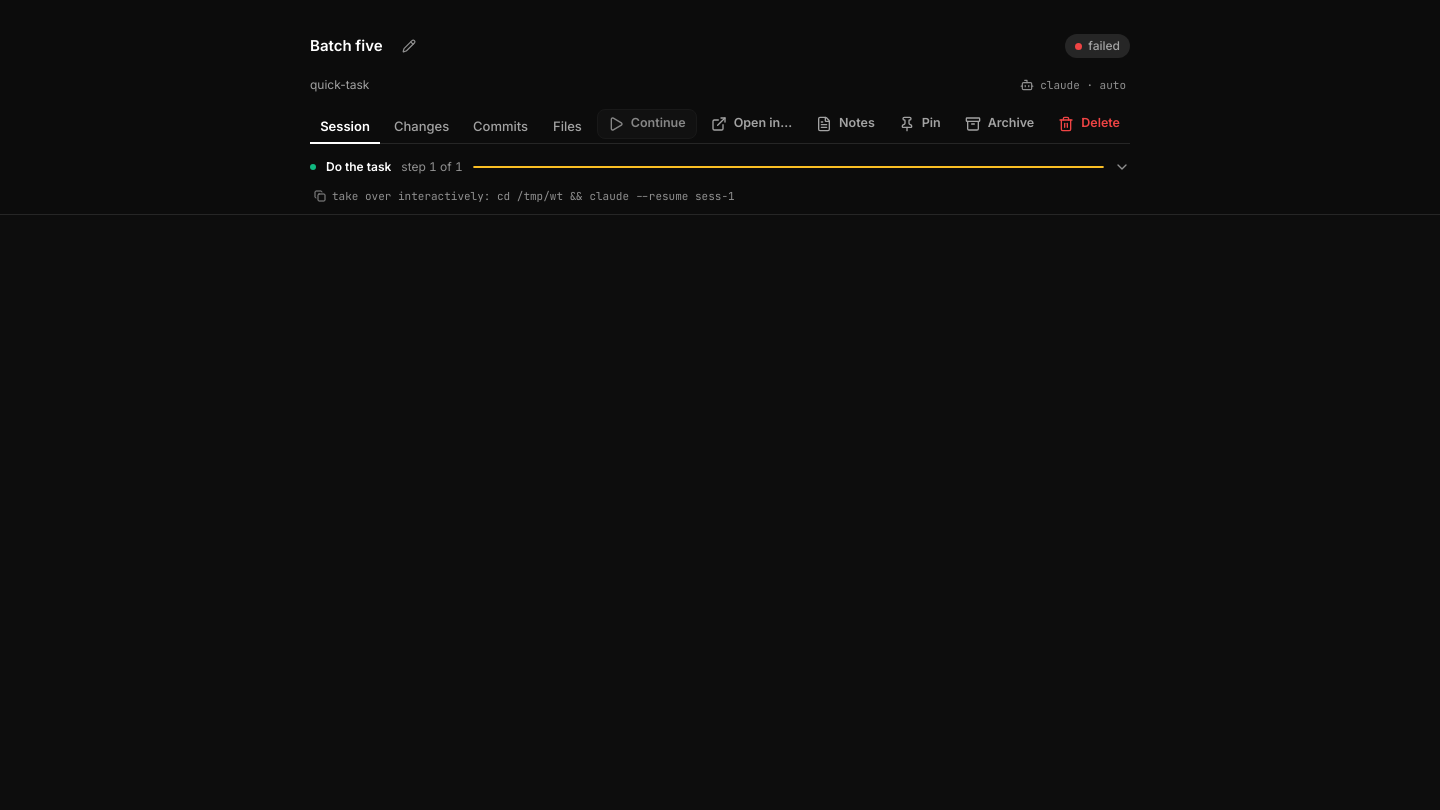
Q80 / G-21 / G-10 / G-16 the run header › the delete confirm is the danger button and cancels with “Keep it”
What coordinates should you click on to do the following:
click the button "Delete"
I would click on:
 (1089, 124)
Its box is [1048,109,1130,139].
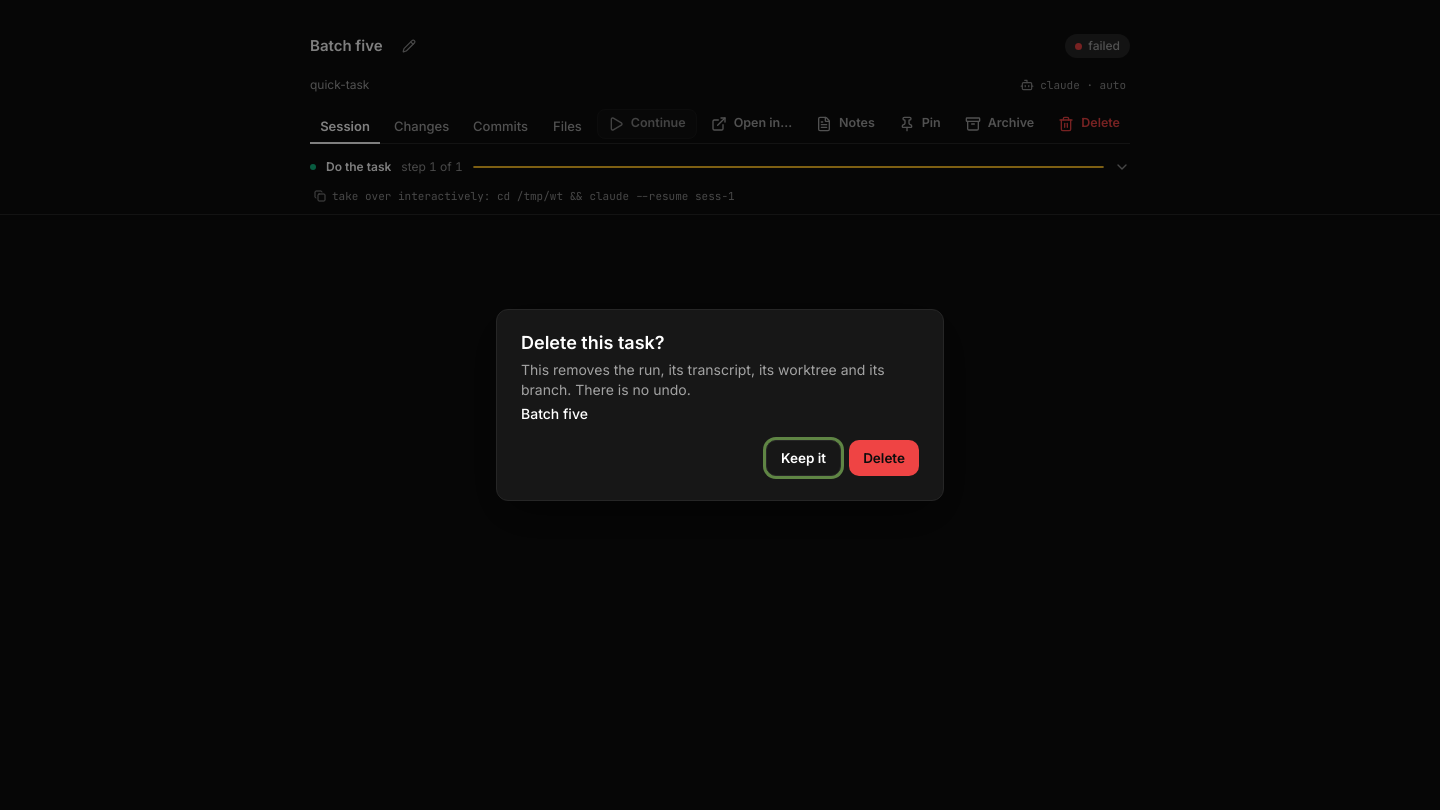
Expected: the button "Keep it" is shown, [766,440,841,476]
